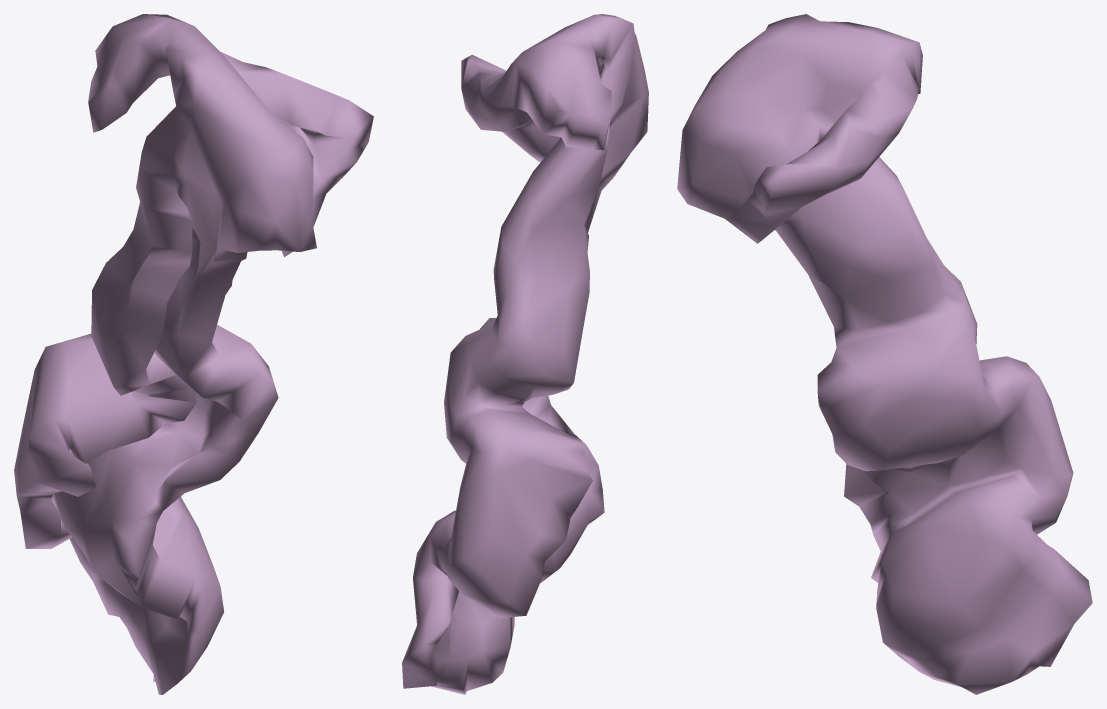
3 views of the same model, side by side, from view 1: azimuth 30°, elevation 25°; view 2: azimuth 150°, elevation 25°; view 3: azimuth 270°, elevation 25° (orthographic). The views are drawn at different scales.
Visible parts, largest first — view 1: 右侧额上沟; view 2: 右侧额上沟; view 3: 右侧额上沟.
Boxes of the visible parts, box(x1,y1,x2,y2) form: 右侧额上沟: box(14, 14, 373, 694); 右侧额上沟: box(402, 14, 648, 694); 右侧额上沟: box(677, 14, 1092, 694).
Bounding box in the file's own units: 0.0359 × 0.0992 × 0.0583.
